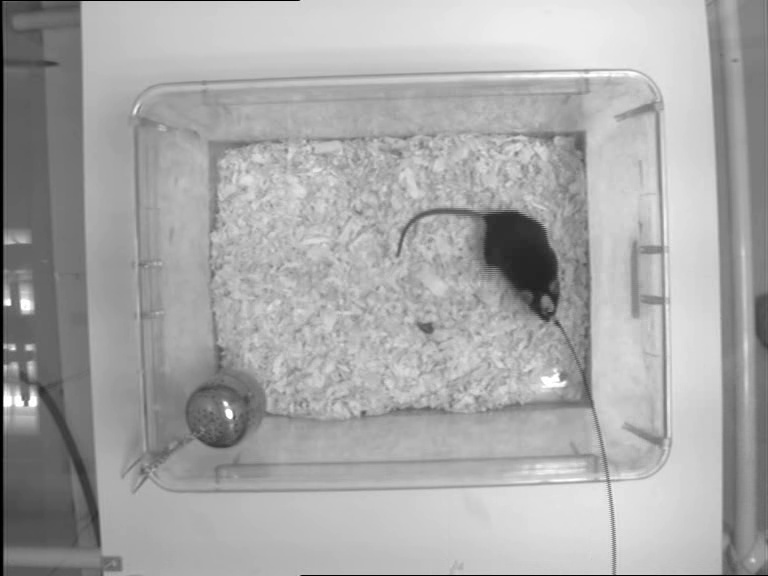mice: (396, 204, 562, 325)
